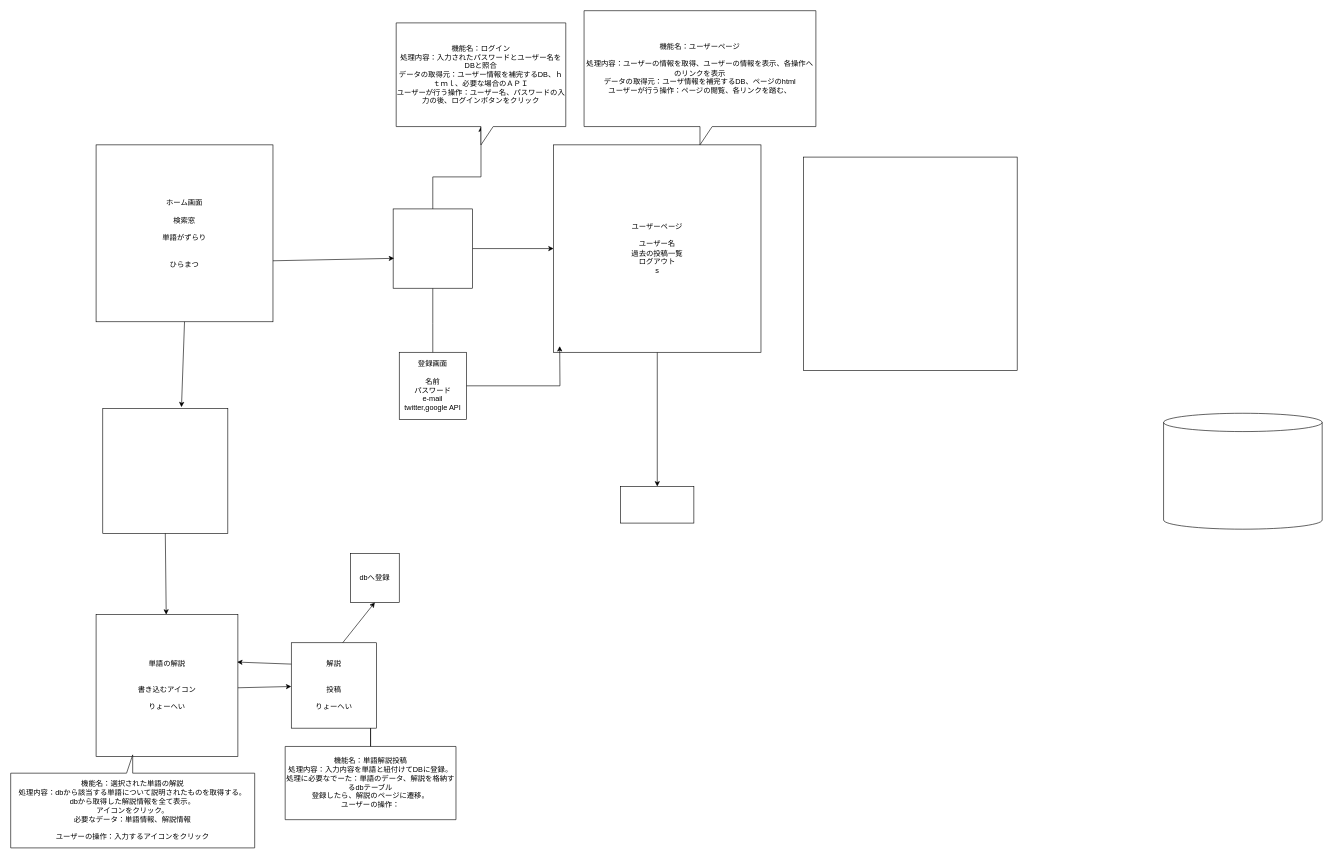
This 1333x859 diagram has some shape labels left out. Here are the shapes that lost their labels. From the top down, the centre of each, then its label:
the point at 432,248: ログイン パスワード ユーザー名 ひろみ
the point at 910,263: 機能名 処理内容 処理に必要なデータ データの取得元 ユーザーが行い操作
the point at 165,470: 単語 解説 解説 解説 ひらまつ
the point at 1242,471: 解説DB ・単語と紐付けするカラム（foreign key） ・ログイン機能をつけた場合、ユーザー紐付けカラム ・解説カラム(text)
the point at 657,504: ログインした状態
